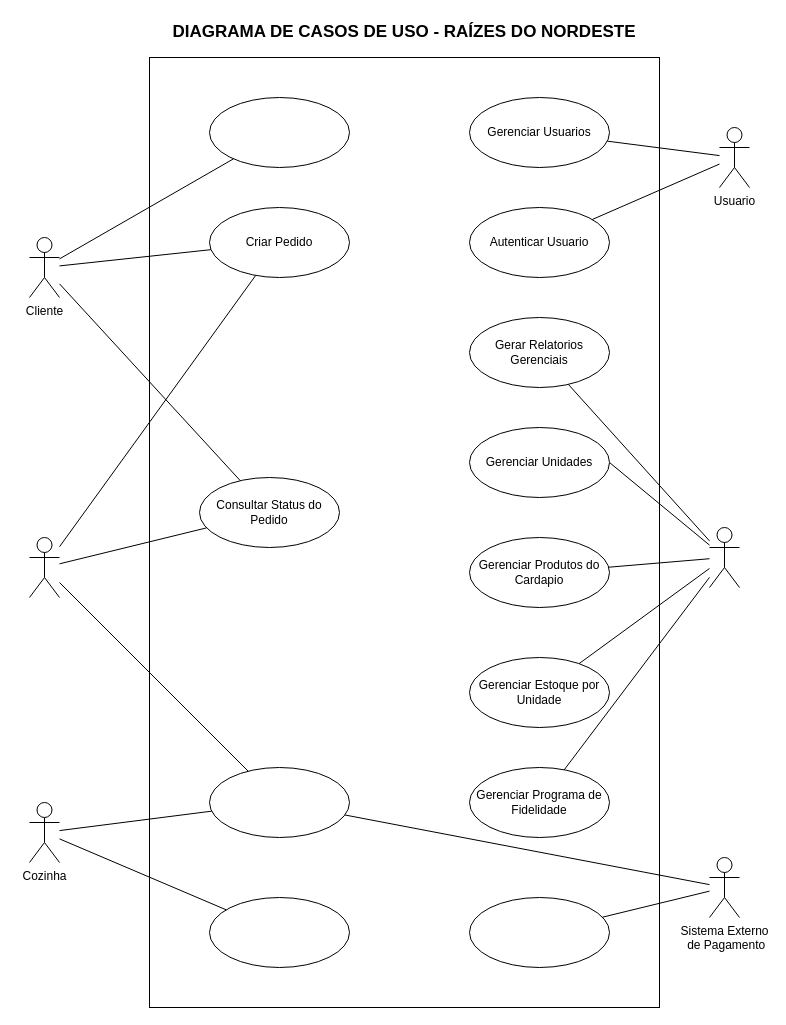
The diagram is 786 pixels wide and 1025 high, and some of its shapes have lost their labels. The centre of each missing label's shape, as x and y in pixels:
"Atendente" goes at pixel 44 567.
"Atualizar Status do Pedido" goes at pixel 279 802.
"Consultar Pedidos por Status" goes at pixel 279 932.
"Gerente" goes at pixel 724 557.
"Operar Programa de Fidelidade" goes at pixel 279 132.
"Processar Pagamento" goes at pixel 539 932.
